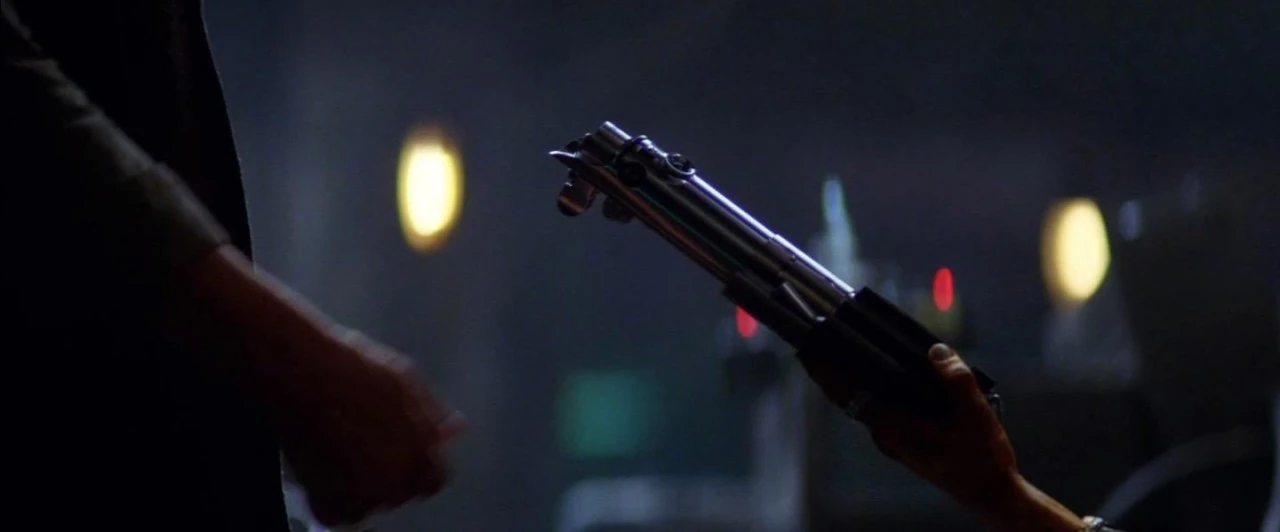Dalek: (537, 114, 1016, 480)
